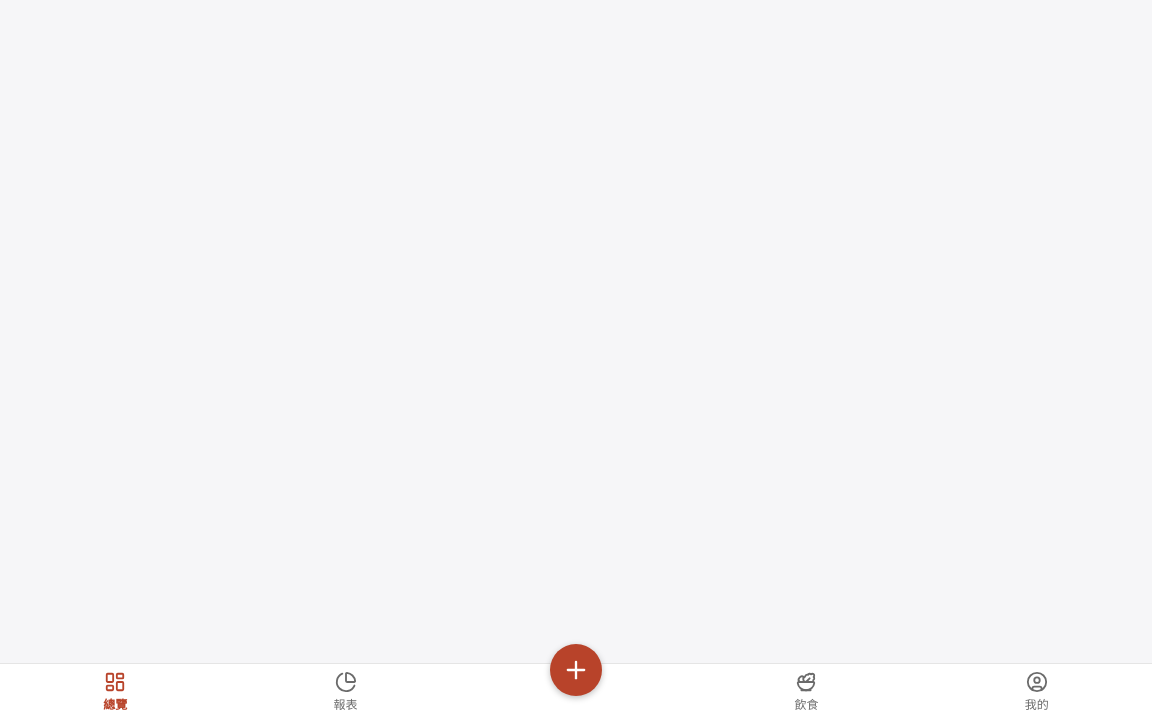
Test: TabBar › 按 Esc 關掉面板
This screenshot has width=1152, height=720.
Click the button named "新增紀錄" at [576, 670], box left=550, top=644, right=602, bottom=696
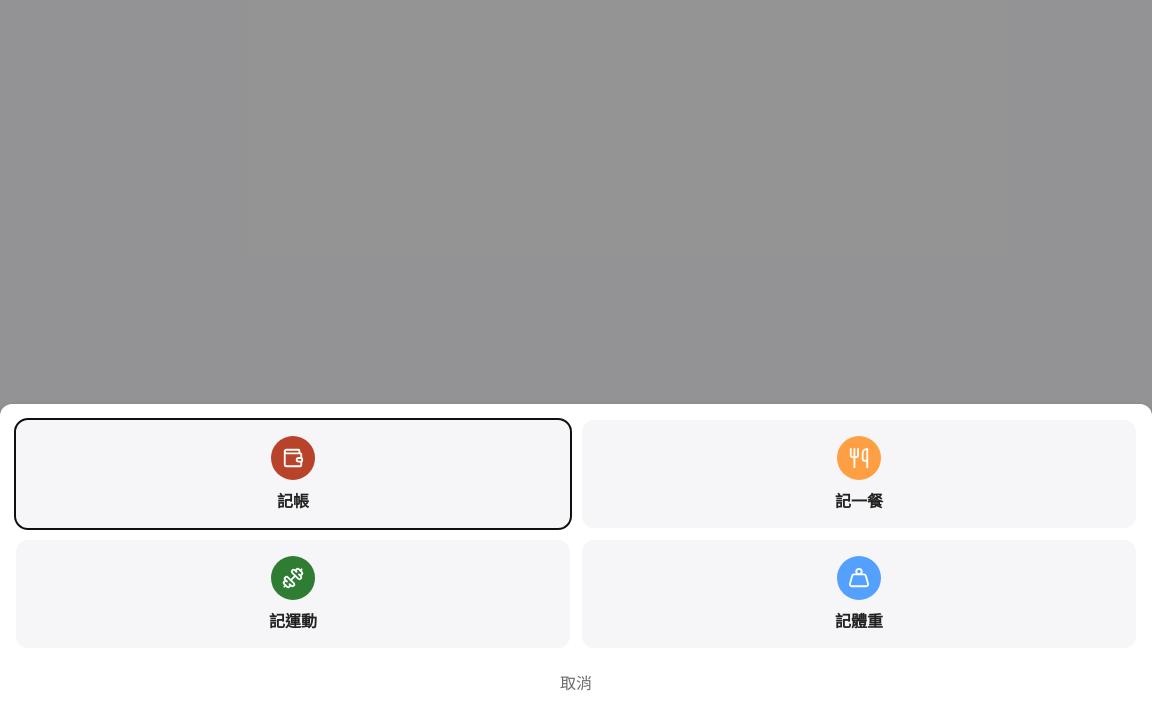
Press Escape
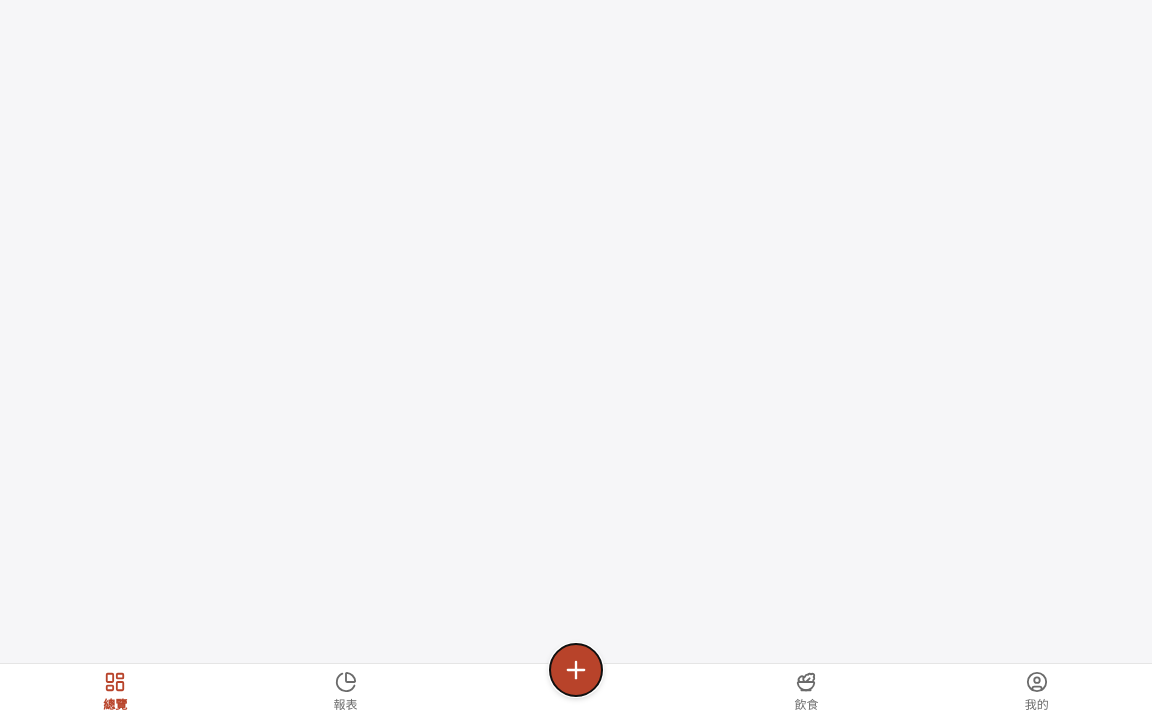
Expected: the dialog is gone
